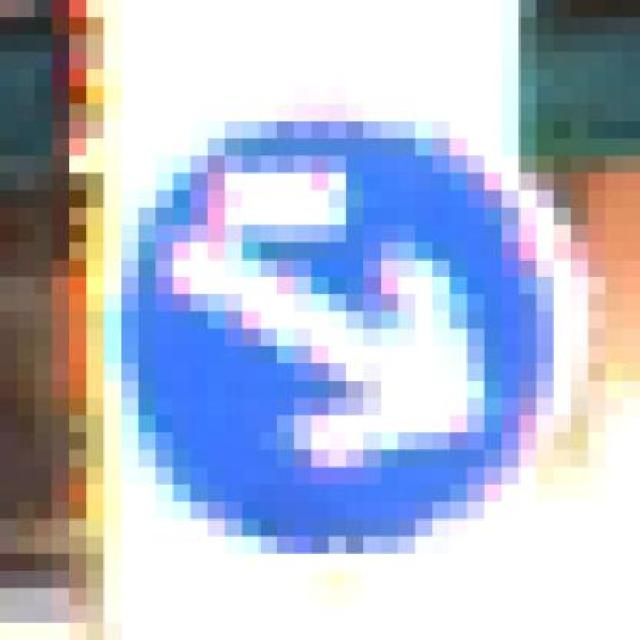Keep-Right: (104, 86, 605, 571)
